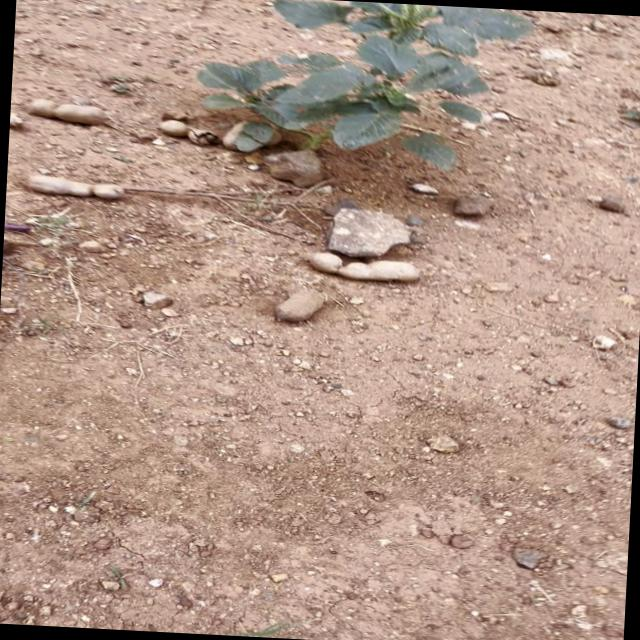tamarind: (301, 247, 424, 283), (28, 168, 136, 205), (18, 92, 116, 131), (280, 284, 324, 325)
